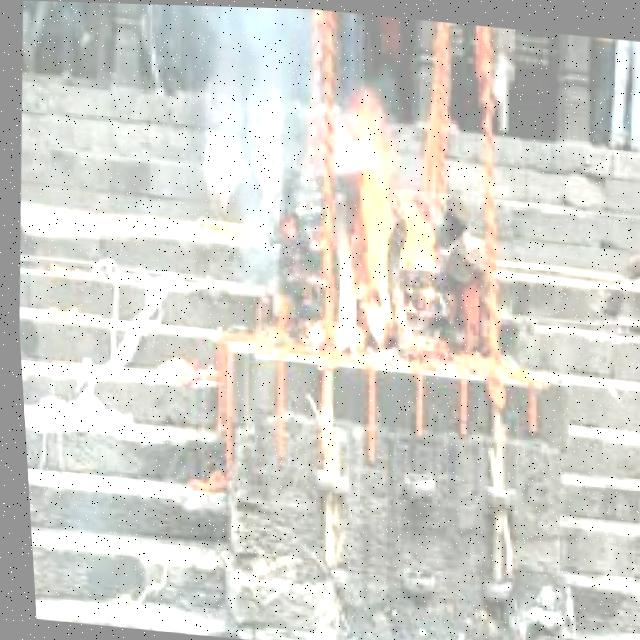Fire: (311, 108, 446, 366)
